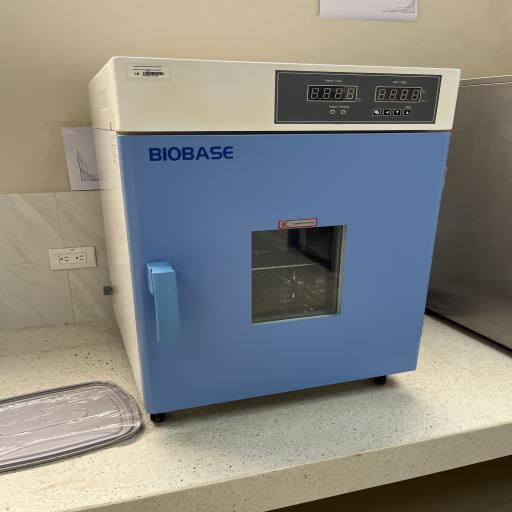Horno_Secado_Biobase: (75, 50, 469, 431)
